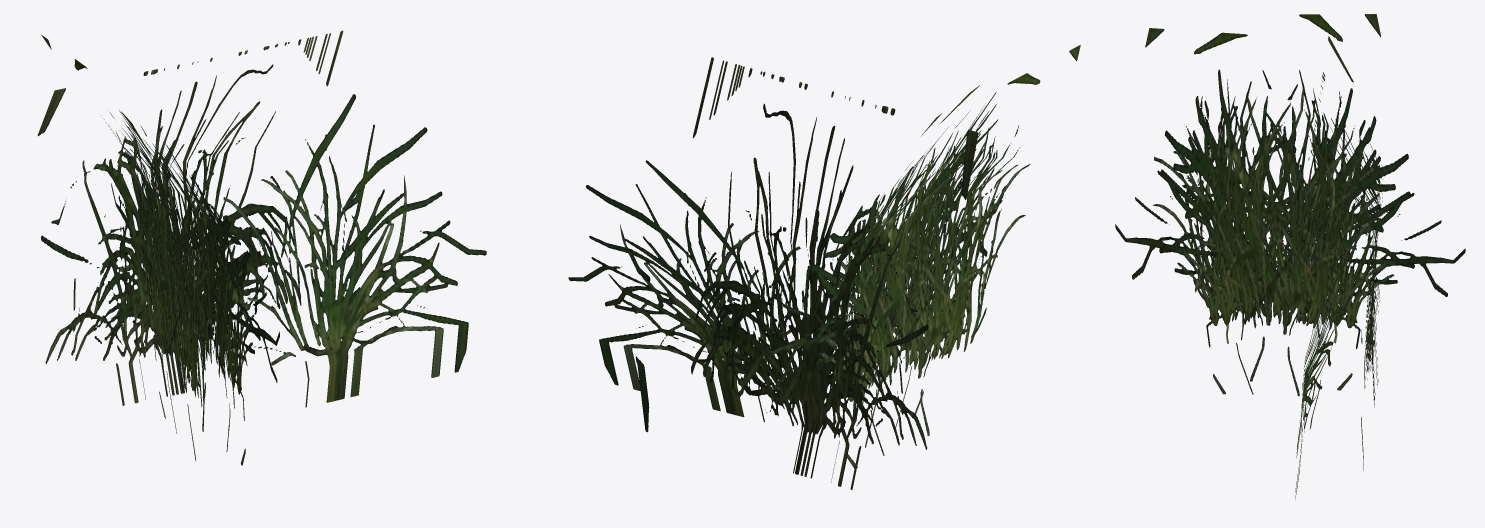
File: forest_grass_001_a_LOD2.gltf
3 renders of one model, left to right at view 1: azimuth 30°, elevation 25°; view 2: azimuth 150°, elevation 25°; view 3: azimuth 270°, elevation 25°, orthographic. The views are drawn at different scales.
Visible parts, largest first — view 1: forest_grass_001_a_LOD2; view 2: forest_grass_001_a_LOD2; view 3: forest_grass_001_a_LOD2.
Part boxes in pixels (x1,y1,x2,y2): forest_grass_001_a_LOD2: [37, 30, 486, 465]; forest_grass_001_a_LOD2: [568, 45, 1080, 489]; forest_grass_001_a_LOD2: [1115, 14, 1465, 498].
Size of the model in its own units: 0.974 by 0.8265 by 0.8108.
Materials: 1 (1 with a texture image).
